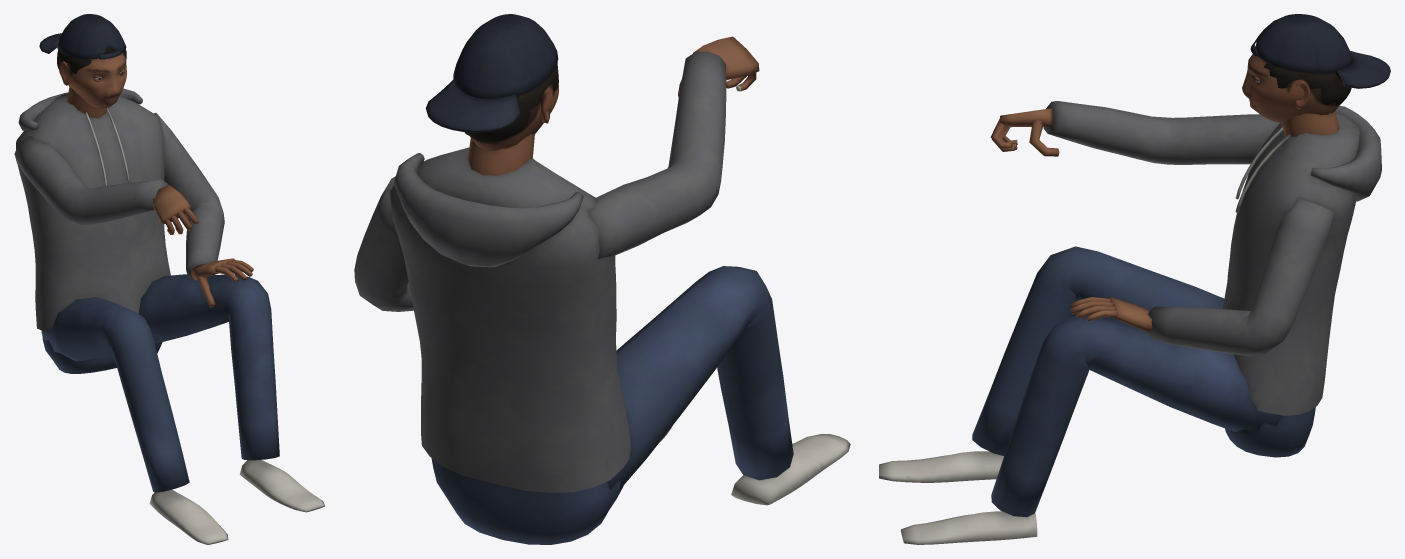
The model's file is hafiz_seated.glb.
3 views of the same model, side by side, from view 1: azimuth 30°, elevation 25°; view 2: azimuth 150°, elevation 25°; view 3: azimuth 270°, elevation 25° (orthographic). The views are drawn at different scales.
Visible parts, largest first — view 1: Hafiz, Head; view 2: Hafiz, Head; view 3: Hafiz, Head.
Part boxes in pixels (x1=…): Hafiz: x1=14, y1=87, x2=324, y2=544; Head: x1=39, y1=14, x2=126, y2=108; Hafiz: x1=354, y1=36, x2=850, y2=544; Head: x1=426, y1=14, x2=558, y2=150; Hafiz: x1=879, y1=101, x2=1381, y2=544; Head: x1=1242, y1=14, x2=1390, y2=123.
Bounding box in the file's own units: 0.561 × 1.07 × 1.03.
4 materials, 4 textured.
